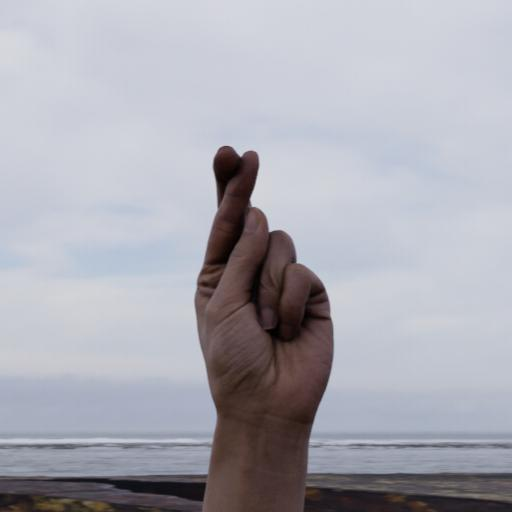R: (189, 143, 347, 429)
